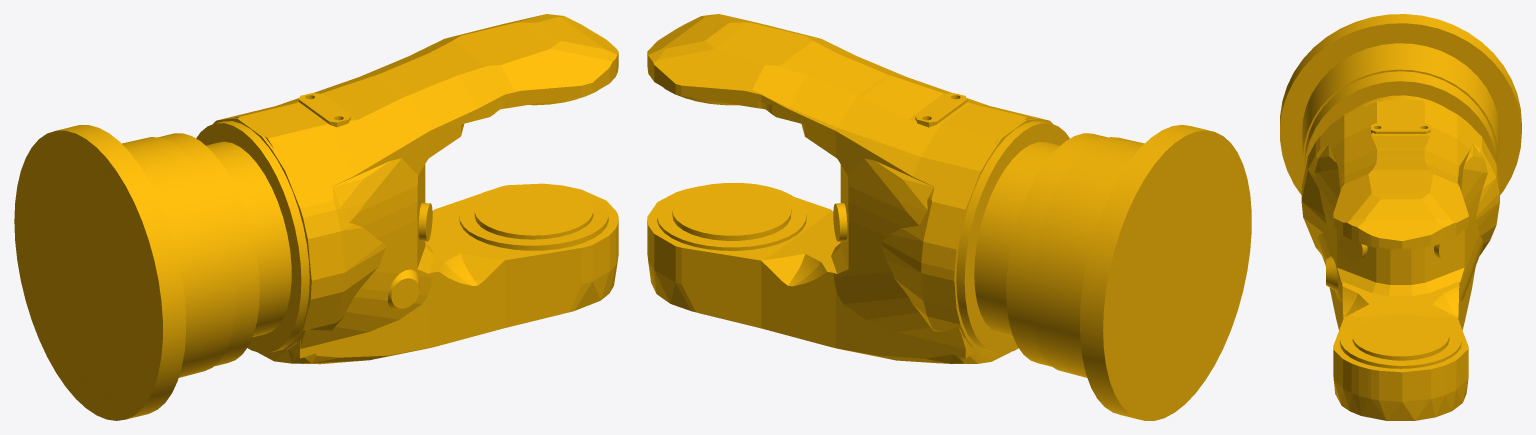
3 renders of one model, left to right at view 1: azimuth 30°, elevation 25°; view 2: azimuth 150°, elevation 25°; view 3: azimuth 270°, elevation 25°, orthographic. The views are drawn at different scales.
Parts seen in each view (by area): view 1: KR16-AV300.sldasm-Part-16-1; view 2: KR16-AV300.sldasm-Part-16-1; view 3: KR16-AV300.sldasm-Part-16-1.
Boxes of the visible parts, bbox=[...] form: KR16-AV300.sldasm-Part-16-1: bbox=[14, 14, 618, 420]; KR16-AV300.sldasm-Part-16-1: bbox=[647, 14, 1251, 420]; KR16-AV300.sldasm-Part-16-1: bbox=[1280, 14, 1521, 420].
Bounding box in the file's own units: 0.3122 × 0.155 × 0.1548.
